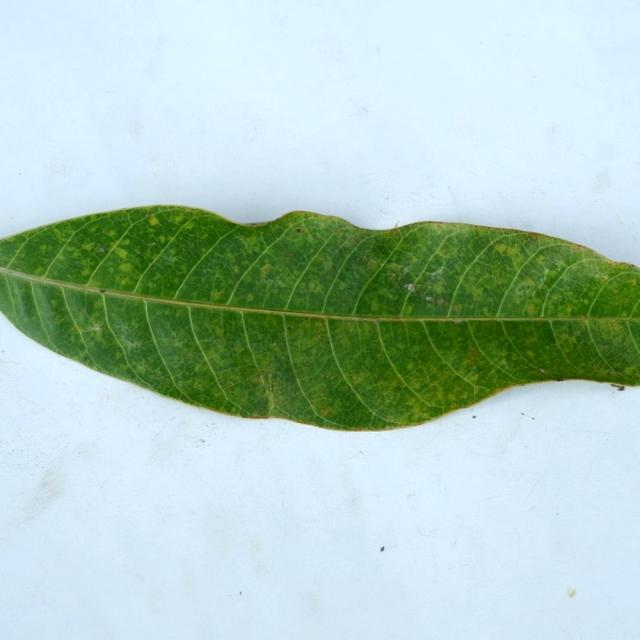Mango: (0, 206, 639, 429)
Powdery_Mildew: (399, 278, 419, 298), (144, 210, 159, 227), (465, 348, 480, 363), (112, 247, 129, 259), (348, 372, 365, 384), (518, 278, 534, 289), (387, 263, 403, 273), (260, 263, 272, 275), (524, 304, 536, 315), (119, 263, 132, 273), (210, 291, 222, 301), (255, 374, 265, 386), (496, 244, 508, 253), (82, 243, 94, 252), (526, 232, 541, 239), (321, 407, 333, 415), (453, 304, 462, 313), (50, 298, 58, 308), (246, 293, 254, 301), (636, 278, 640, 286), (98, 248, 104, 252)
